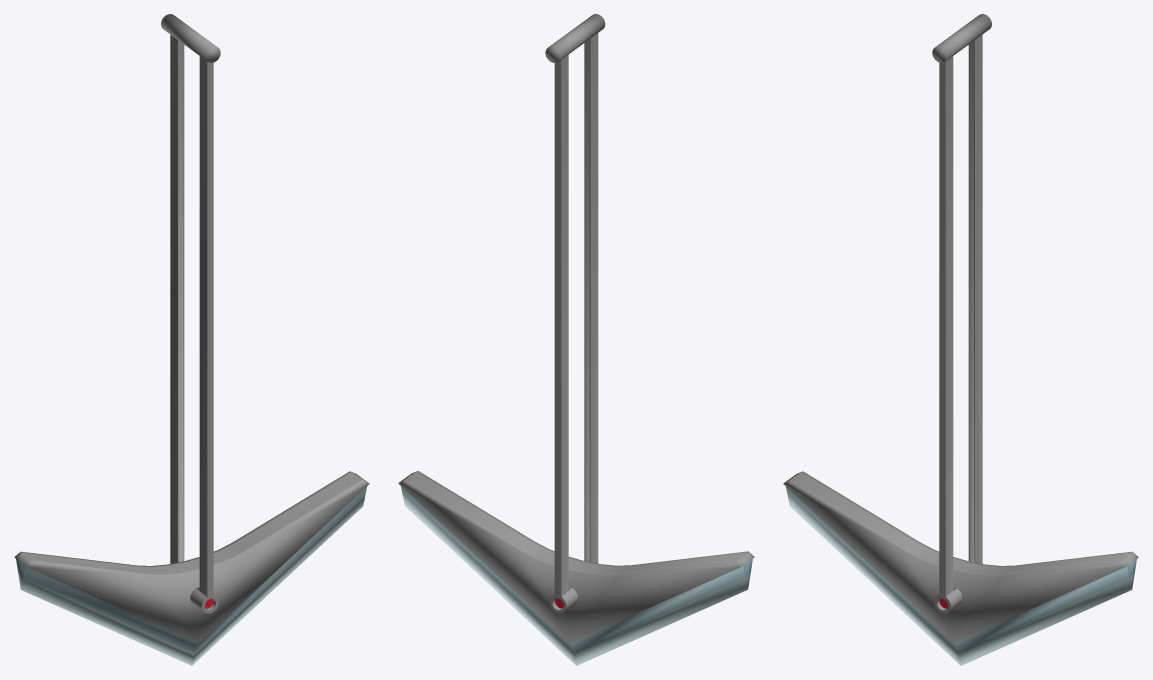
File: SwingingCutter.fbx
The picture shows the model from 3 angles, left to right: view 1: azimuth 30°, elevation 25°; view 2: azimuth 150°, elevation 25°; view 3: azimuth 330°, elevation 25°; orthographic projection.
Visible parts, largest first — view 1: CuttingTrap; view 2: CuttingTrap; view 3: CuttingTrap.
Boxes of the visible parts, left/top/right/bottom form: CuttingTrap: left=14, top=14, right=369, bottom=665; CuttingTrap: left=398, top=14, right=754, bottom=665; CuttingTrap: left=783, top=14, right=1138, bottom=665.
Bounding box in the file's own units: 72.2 × 128 × 16.21.
